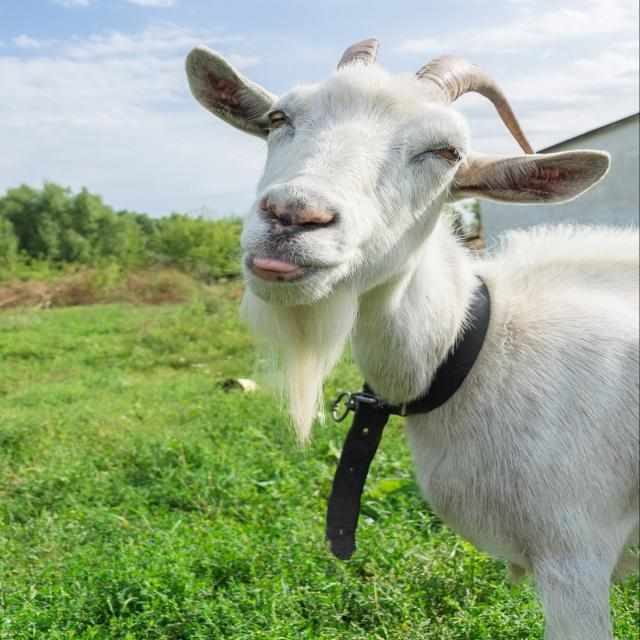Goat: (176, 37, 640, 640)
